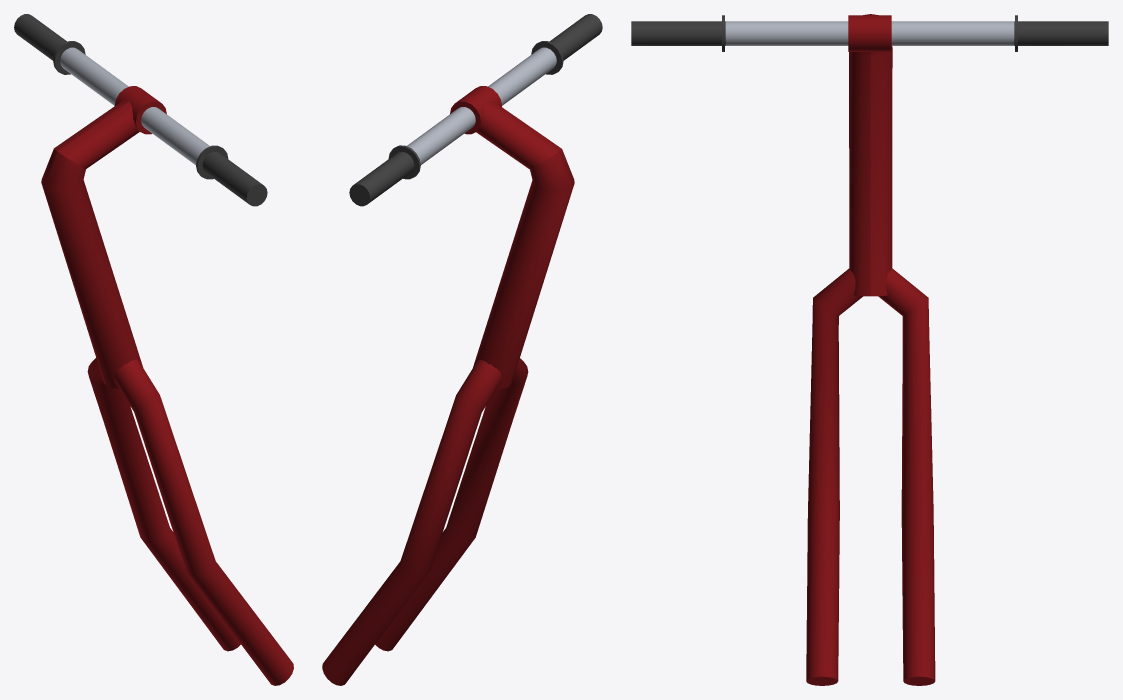
Rendered from Fork.fbx.
The picture shows the model from 3 angles, left to right: view 1: azimuth 30°, elevation 25°; view 2: azimuth 150°, elevation 25°; view 3: azimuth 270°, elevation 25°; orthographic projection. The views are drawn at different scales.
Parts seen in each view (by area): view 1: Fork; view 2: Fork; view 3: Fork.
Part boxes in pixels (x1,y1,x2,y2): Fork: (14, 14, 293, 685); Fork: (322, 14, 602, 685); Fork: (631, 14, 1108, 685).
Bounding box in the file's own units: 26.15 × 66.96 × 47.09.
